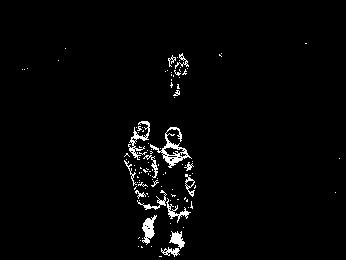person: (124, 118, 163, 248), (159, 127, 195, 254), (165, 49, 190, 101)
